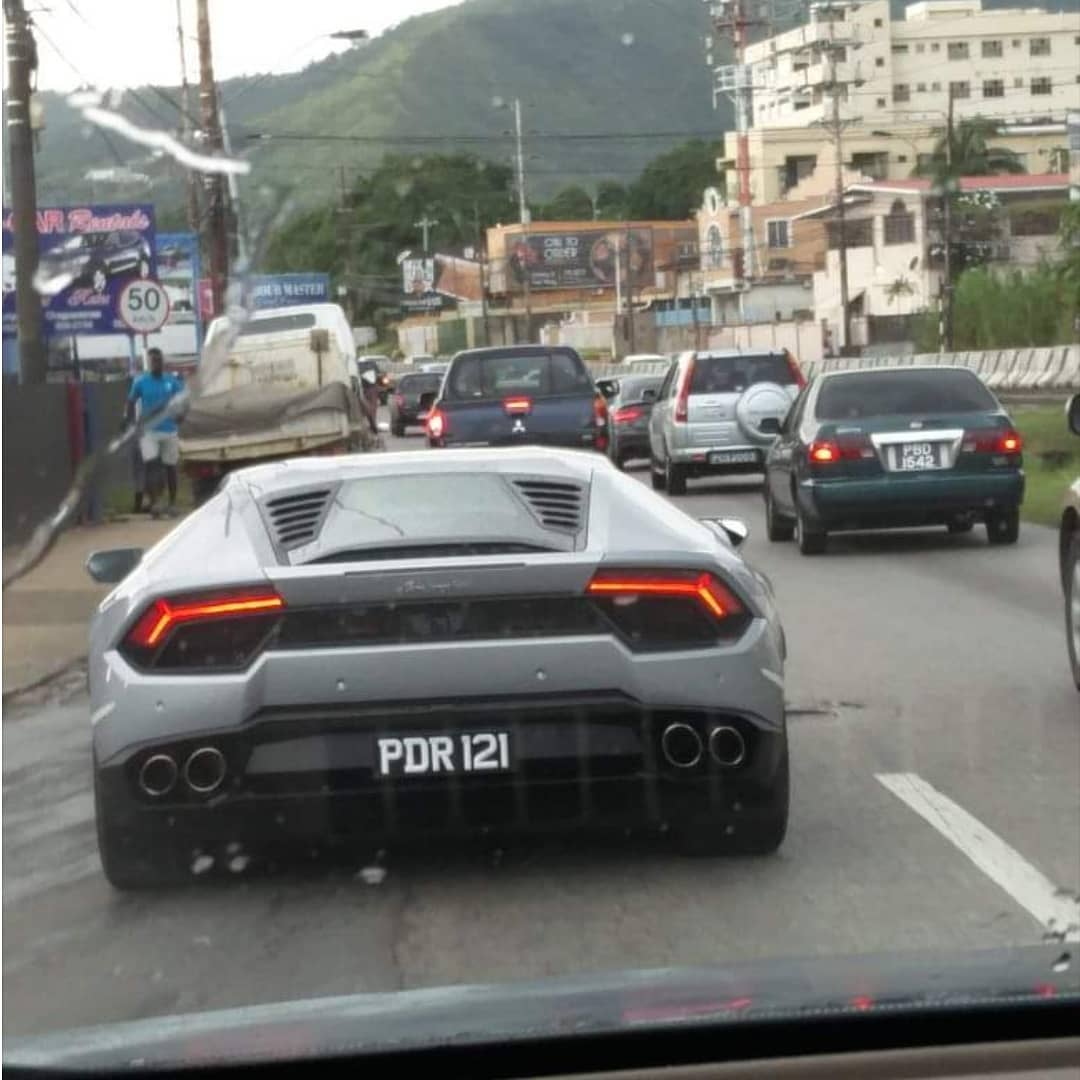License-Plate: (370, 736, 517, 776), (896, 443, 939, 468)
